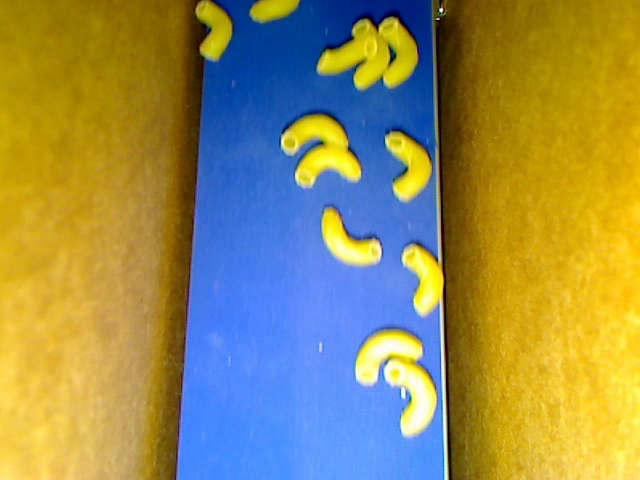elbow: (383, 359, 436, 439), (354, 329, 424, 386), (320, 205, 381, 267), (384, 131, 432, 203), (400, 243, 444, 317), (378, 15, 418, 89), (294, 145, 363, 187), (281, 114, 349, 155), (352, 17, 389, 92), (194, 1, 233, 64), (315, 35, 377, 74), (250, 1, 299, 25)
